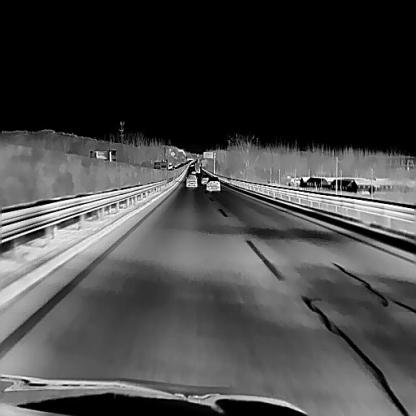car: (204, 175, 219, 191), (185, 173, 197, 187), (201, 174, 209, 184)
